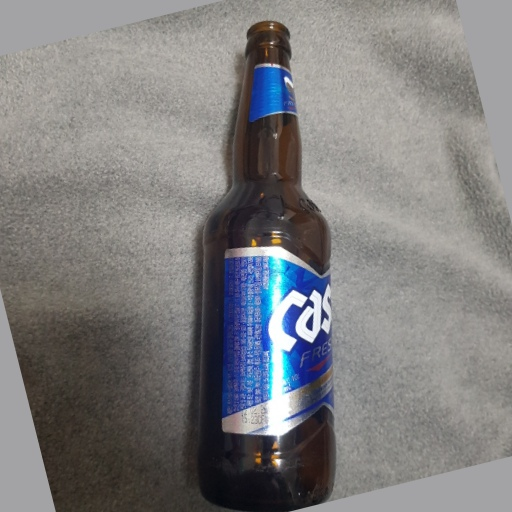Glass_1: (186, 20, 339, 512)
